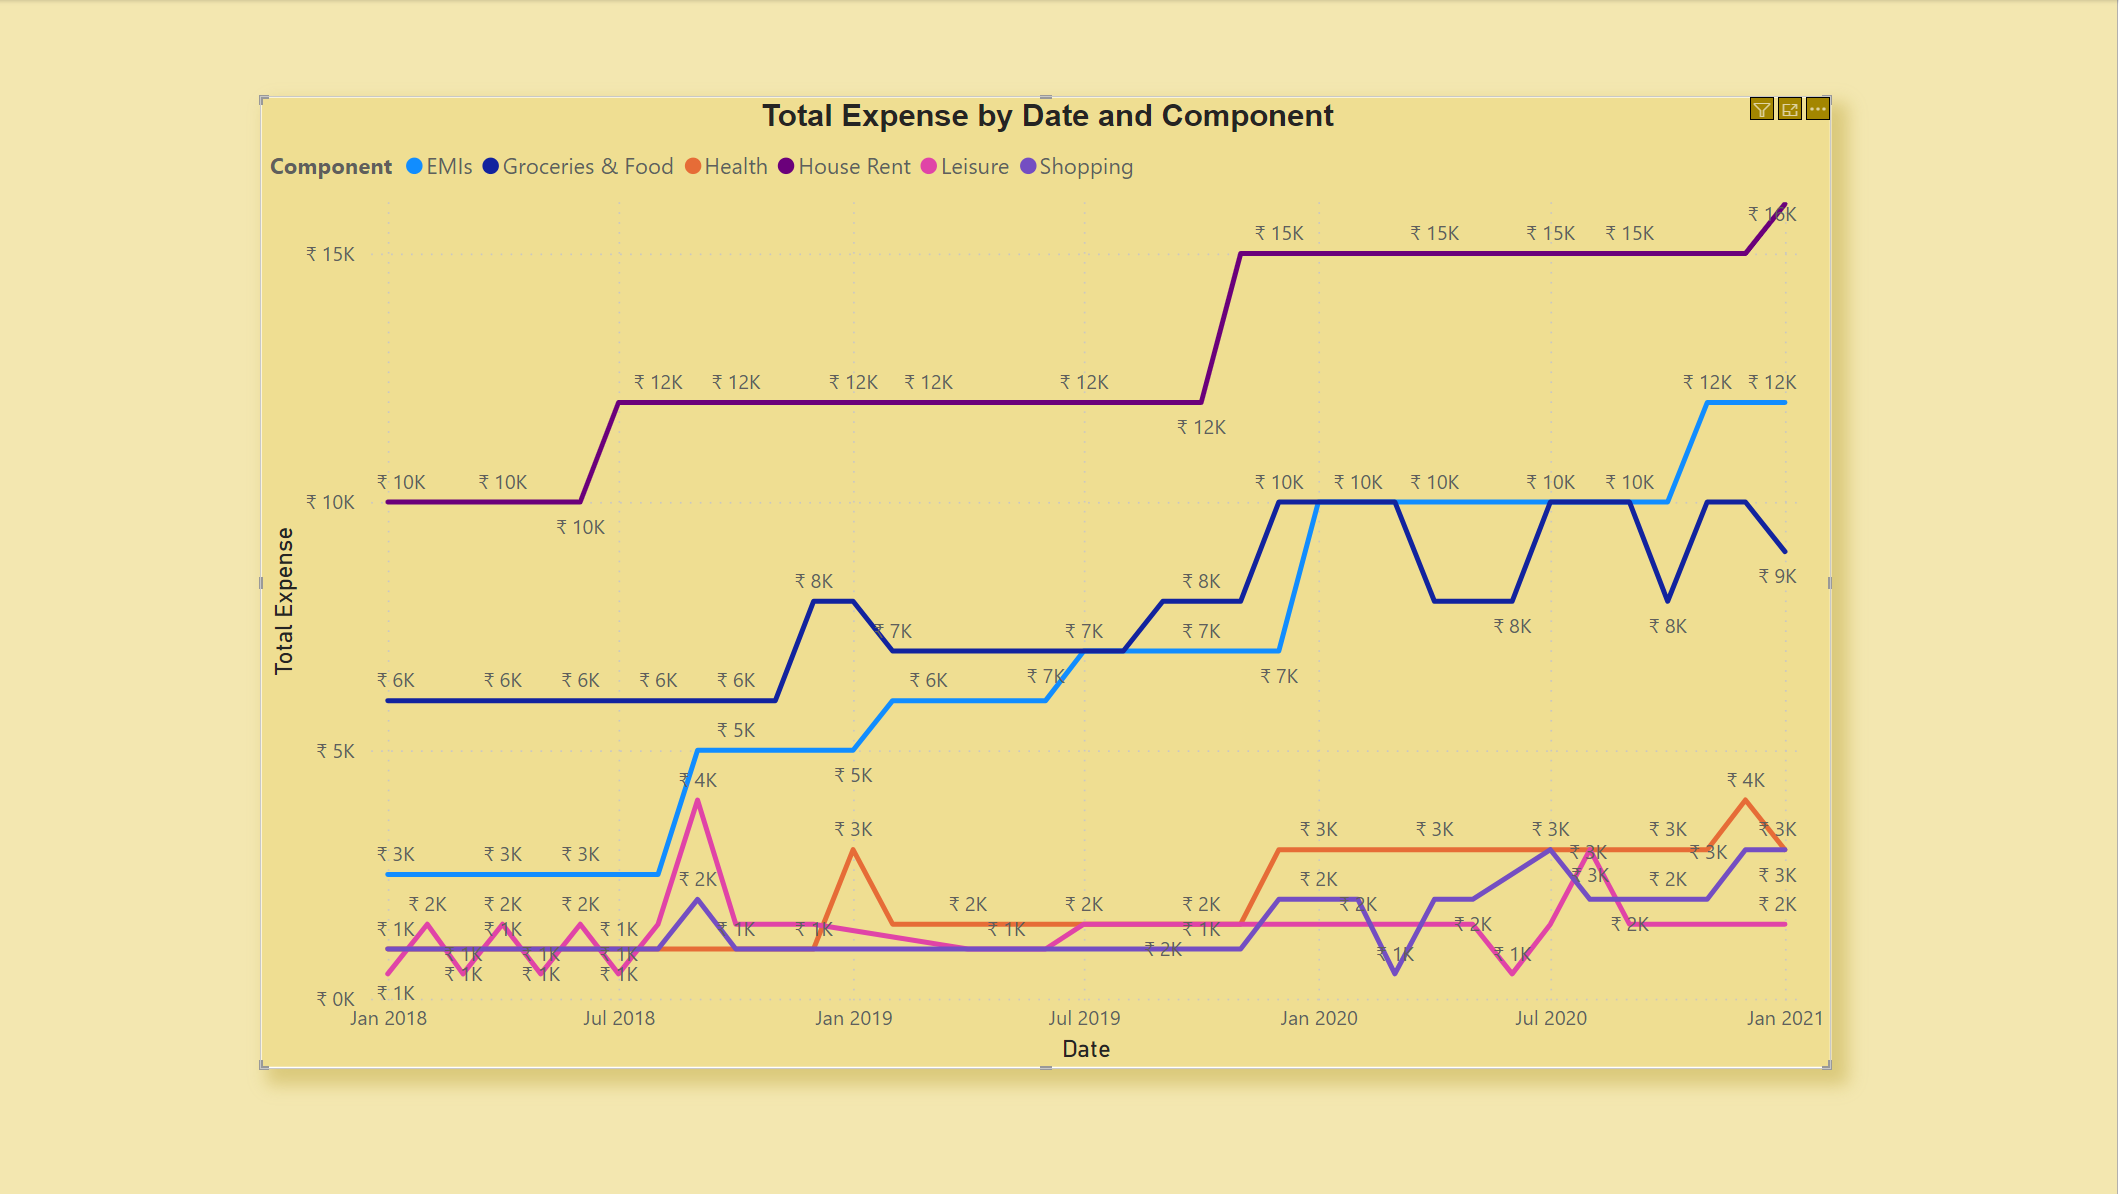

The page's visual inventory and layout, read from the dashboard file:
{"tool":"powerbi","page":{"name":"Expenses","canvas":[1280,720],"ordinal":1},"visuals":[{"type":"lineChart","fields":{"Series":["FinData.Component"],"Category":["FinData.Date"],"Y":["Key measures.Total Expense"]},"box":[161,57.6,946.9,586.3],"z":0}]}

Visuals, with their boxes on the page's 1280x720 design canvas (x1, y1, x2, y2). These are canvas units, not pixel positions in the 2119x1194 screenshot, which may show the page scaled, cropped or inside an application window:
lineChart - FinData.Component x FinData.Date: <bbox>161, 58, 1108, 644</bbox>
